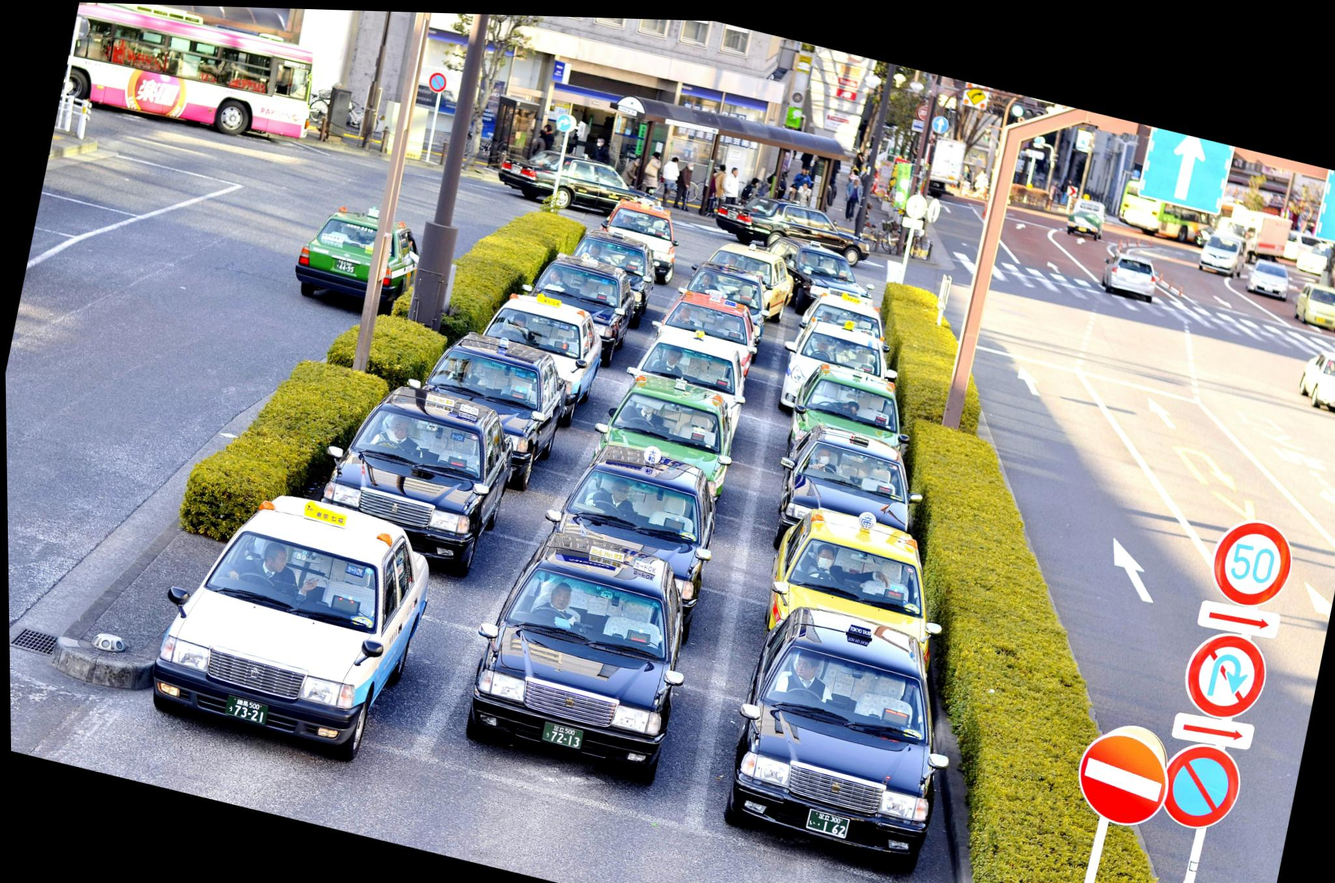barrier: (1066, 717, 1180, 843)
